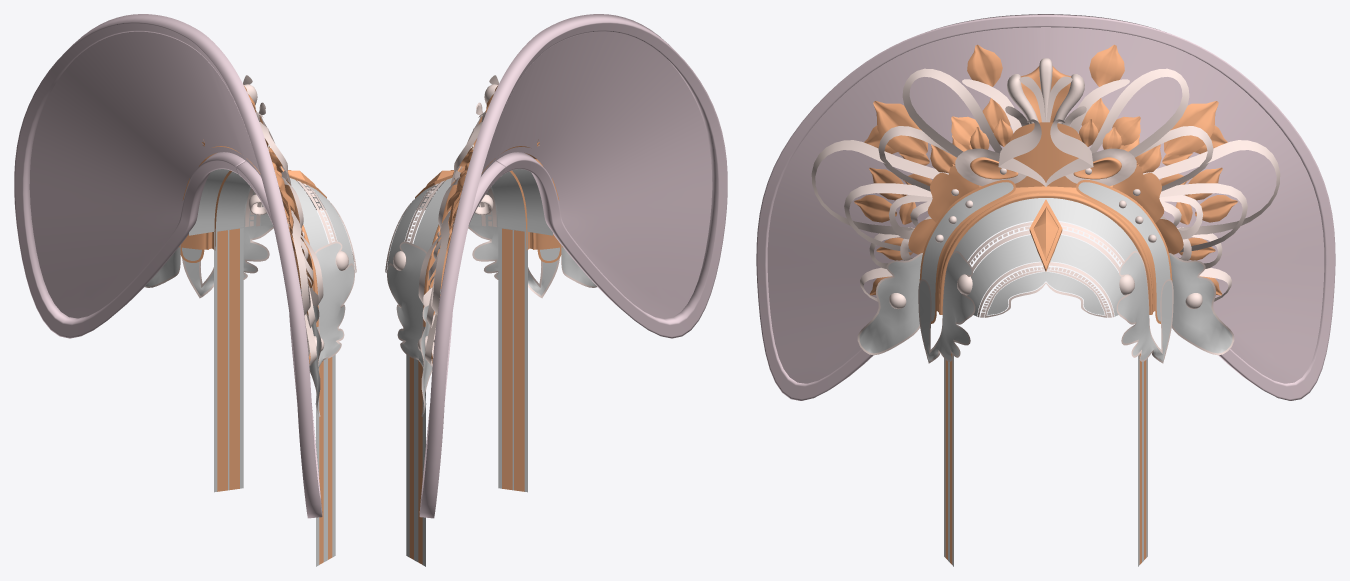
The model's file is Mask1.fbx.
3 views of the same model, side by side, from view 1: azimuth 30°, elevation 25°; view 2: azimuth 150°, elevation 25°; view 3: azimuth 270°, elevation 25° (orthographic).
Visible parts, largest first — view 1: Circle.023, Circle.017, Circle.020, Circle.021, Circle.028, Circle.018, Circle.009, Circle.008, Листья, Plane.005, Circle.013; view 2: Circle.023, Circle.017, Circle.020, Circle.021, Circle.028, Circle.018, Circle.009, Circle.008, Листья, Plane.005, Circle.013; view 3: Circle.023, Circle.009, Circle.017, Листья, Circle.018, Circle.021, Circle.028, Circle.013, Circle.019, Circle.008, Circle.012, Circle.020 (+9 smaller).
Boxes of the visible parts, x1=… form: Circle.023: x1=29, y1=31, x2=260, y2=318; Circle.017: x1=14, y1=14, x2=322, y2=518; Circle.020: x1=217, y1=228, x2=332, y2=564; Circle.021: x1=145, y1=228, x2=335, y2=566; Circle.028: x1=145, y1=187, x2=354, y2=416; Circle.018: x1=189, y1=169, x2=354, y2=271; Circle.009: x1=256, y1=105, x2=323, y2=366; Circle.008: x1=179, y1=146, x2=318, y2=326; Листья: x1=202, y1=86, x2=310, y2=363; Plane.005: x1=248, y1=194, x2=348, y2=351; Circle.013: x1=182, y1=154, x2=313, y2=288; Circle.023: x1=481, y1=31, x2=712, y2=318; Circle.017: x1=419, y1=14, x2=727, y2=518; Circle.020: x1=409, y1=228, x2=524, y2=564; Circle.021: x1=406, y1=228, x2=596, y2=566; Circle.028: x1=387, y1=187, x2=596, y2=416; Circle.018: x1=387, y1=169, x2=552, y2=271; Circle.009: x1=418, y1=105, x2=485, y2=366; Circle.008: x1=423, y1=146, x2=562, y2=326; Листья: x1=431, y1=86, x2=539, y2=363; Plane.005: x1=393, y1=194, x2=493, y2=351; Circle.013: x1=428, y1=154, x2=559, y2=288; Circle.023: x1=767, y1=27, x2=1324, y2=383; Circle.009: x1=811, y1=68, x2=1280, y2=301; Circle.017: x1=756, y1=14, x2=1335, y2=400; Листья: x1=854, y1=44, x2=1237, y2=295; Circle.018: x1=953, y1=198, x2=1138, y2=316; Circle.021: x1=859, y1=254, x2=1232, y2=566; Circle.028: x1=857, y1=250, x2=1234, y2=363; Circle.013: x1=908, y1=148, x2=1183, y2=254; Circle.019: x1=921, y1=182, x2=1170, y2=321; Circle.008: x1=937, y1=185, x2=1154, y2=314; Circle.012: x1=998, y1=119, x2=1093, y2=186; Circle.020: x1=945, y1=353, x2=1146, y2=564.
Size of the model in its own units: 14.44 by 39.11 by 40.19.
